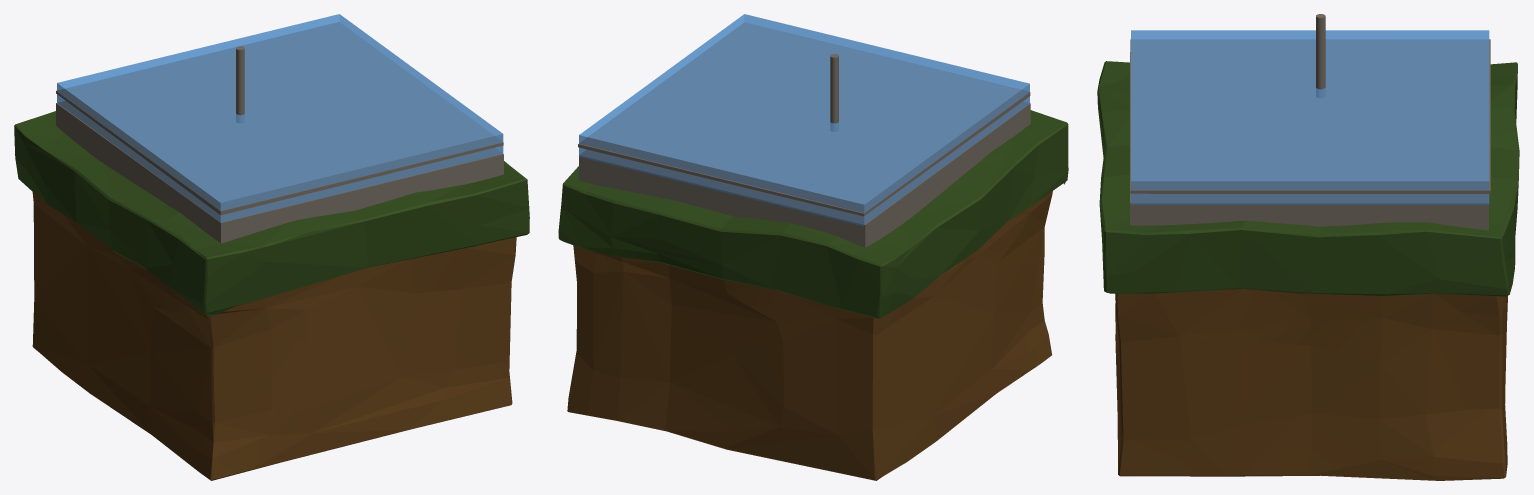
The model's file is M2.min.gltf.
3 views of the same model, side by side, from view 1: azimuth 30°, elevation 25°; view 2: azimuth 150°, elevation 25°; view 3: azimuth 270°, elevation 25° (orthographic). The views are drawn at different scales.
Parts seen in each view (by area): view 1: CENTERED.013; view 2: CENTERED.013; view 3: CENTERED.013.
Part boxes in pixels (box(x1,y1,x2,y2)): CENTERED.013: box(14, 14, 529, 480); CENTERED.013: box(558, 14, 1068, 480); CENTERED.013: box(1097, 14, 1519, 480).
Size of the model in its own units: 1.07 by 1.05 by 1.09.
